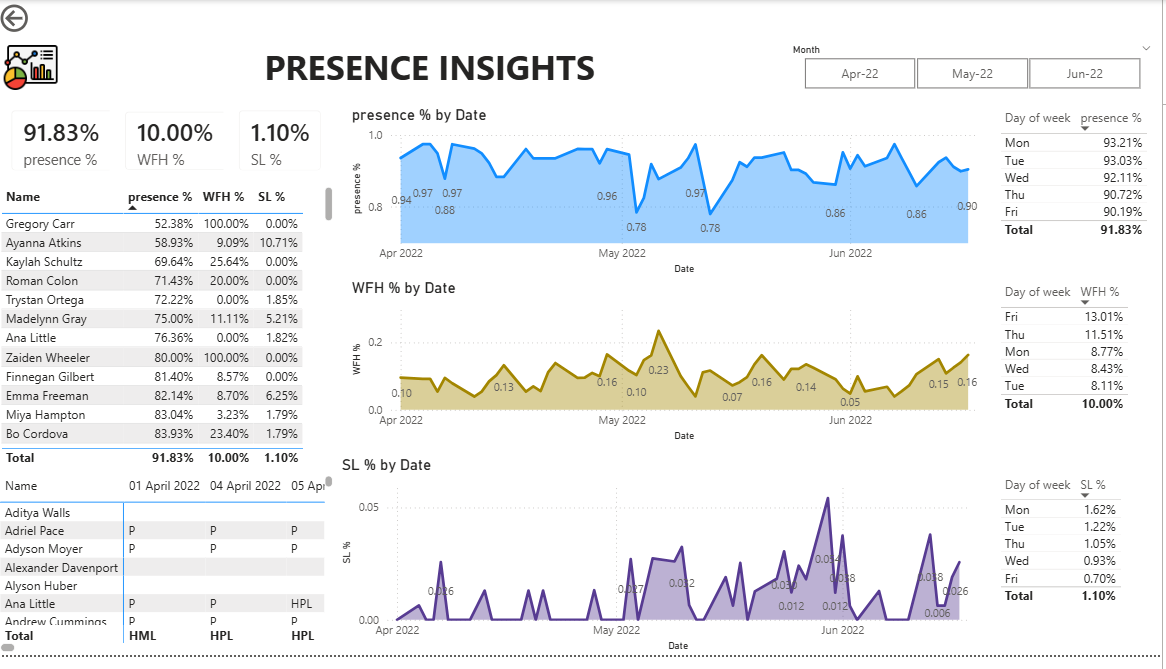

Layout of this report page (visuals, bound fields, positions):
{"tool":"powerbi","page":{"name":"Page 1","canvas":[1280,720],"ordinal":0},"visuals":[{"type":"cardVisual","fields":{"Data":["Measure Table.presence %"]},"box":[0,104.3,146.8,100.2],"z":0},{"type":"slicer","fields":{"Values":["Final Data.Month"]},"box":[861.8,42.5,418.5,61.8],"z":1000},{"type":"cardVisual","fields":{"Data":["Measure Table.WFH %"]},"box":[124.9,105.7,156.4,98.8],"z":2000},{"type":"cardVisual","fields":{"Data":["Measure Table.SL %"]},"box":[249.7,104.3,124.9,100.2],"z":3000},{"type":"tableEx","fields":{"Values":["Final Data.Name","Measure Table.presence %","Measure Table.WFH %","Measure Table.SL %"]},"box":[0,200.3,374.6,317],"z":4000},{"type":"actionButton","box":[0,0,100,40],"z":5000},{"type":"textbox","box":[100.2,42.5,752,61.8],"z":6000},{"type":"pivotTable","fields":{"Rows":["Final Data.Name"],"Values":["Min(Final Data.Value)"],"Columns":["Final Data.Date"]},"box":[0,517.3,374.6,203.1],"z":7000},{"type":"stackedAreaChart","fields":{"Category":["Final Data.Date"],"Y":["Measure Table.presence %"]},"box":[385.6,115.3,710.8,190.7],"z":8000},{"type":"stackedAreaChart","fields":{"Category":["Final Data.Date"],"Y":["Measure Table.WFH %"]},"box":[385.6,306,710.8,183.9],"z":8001},{"type":"stackedAreaChart","fields":{"Category":["Final Data.Date"],"Y":["Measure Table.SL %"]},"box":[374.6,499.5,712.2,220.9],"z":8002},{"type":"tableEx","fields":{"Values":["Final Data.Day of week","Measure Table.presence %"]},"box":[1096.4,115.3,183.9,156.4],"z":8003},{"type":"tableEx","fields":{"Values":["Final Data.Day of week","Measure Table.WFH %"]},"box":[1096.4,306,183.9,168.8],"z":8004},{"type":"tableEx","fields":{"Values":["Final Data.Day of week","Measure Table.SL %"]},"box":[1096.4,517.3,183.9,164.7],"z":8005},{"type":"image","box":[0,42.5,75.5,63.1],"z":8006}]}

Visuals, with their boxes on the page's 1280x720 design canvas (x1, y1, x2, y2). These are canvas units, not pixel positions in the 1166x669 screenshot, which may show the page scaled, cropped or inside an application window:
cardVisual - Measure Table.presence %: [0, 104, 147, 204]
slicer - Final Data.Month: [862, 42, 1280, 104]
cardVisual - Measure Table.WFH %: [125, 106, 281, 204]
cardVisual - Measure Table.SL %: [250, 104, 375, 204]
tableEx - Final Data.Name x Measure Table.presence %: [0, 200, 375, 517]
actionButton: [0, 0, 100, 40]
textbox: [100, 42, 852, 104]
pivotTable - Final Data.Name x Min(Final Data.Value): [0, 517, 375, 720]
stackedAreaChart - Final Data.Date x Measure Table.presence %: [386, 115, 1096, 306]
stackedAreaChart - Final Data.Date x Measure Table.WFH %: [386, 306, 1096, 490]
stackedAreaChart - Final Data.Date x Measure Table.SL %: [375, 500, 1087, 720]
tableEx - Final Data.Day of week x Measure Table.presence %: [1096, 115, 1280, 272]
tableEx - Final Data.Day of week x Measure Table.WFH %: [1096, 306, 1280, 475]
tableEx - Final Data.Day of week x Measure Table.SL %: [1096, 517, 1280, 682]
image: [0, 42, 76, 106]
